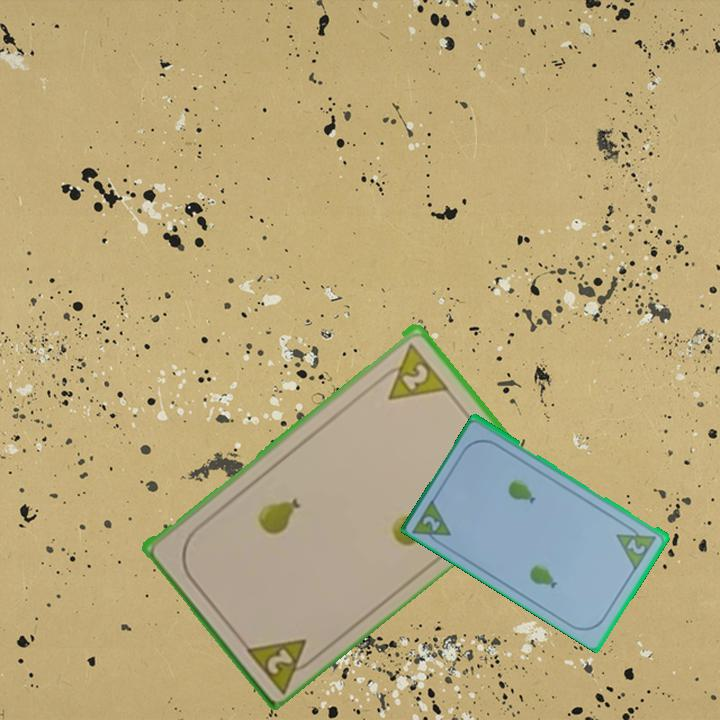2p: (373, 339, 450, 403), (263, 644, 296, 677), (624, 535, 649, 557), (419, 512, 444, 534)
